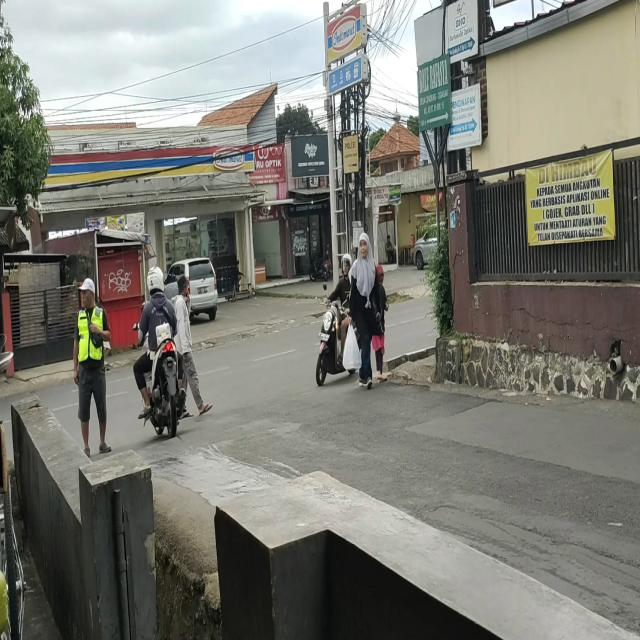helmet: (148, 267, 163, 293), (342, 255, 349, 272)
